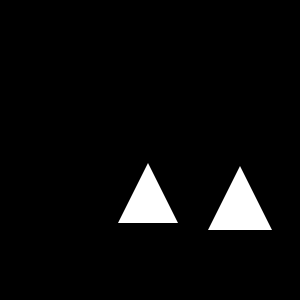triangle: (208, 166, 272, 230), (118, 163, 178, 223)
